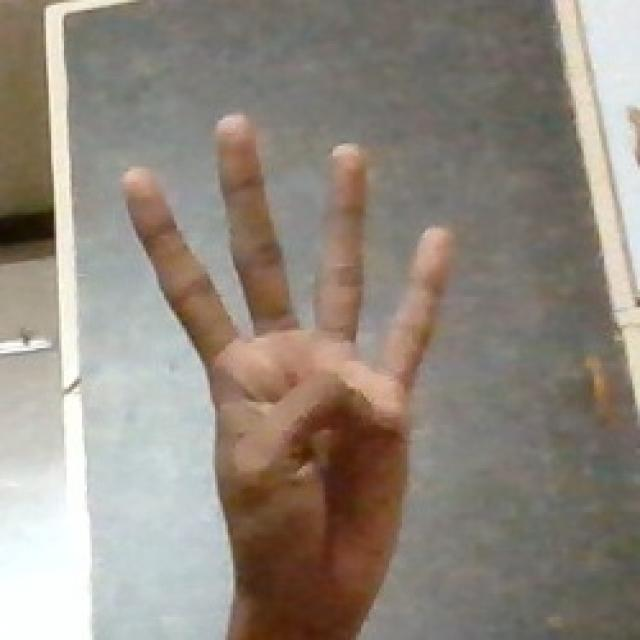Numeric-4: (128, 113, 452, 618)
